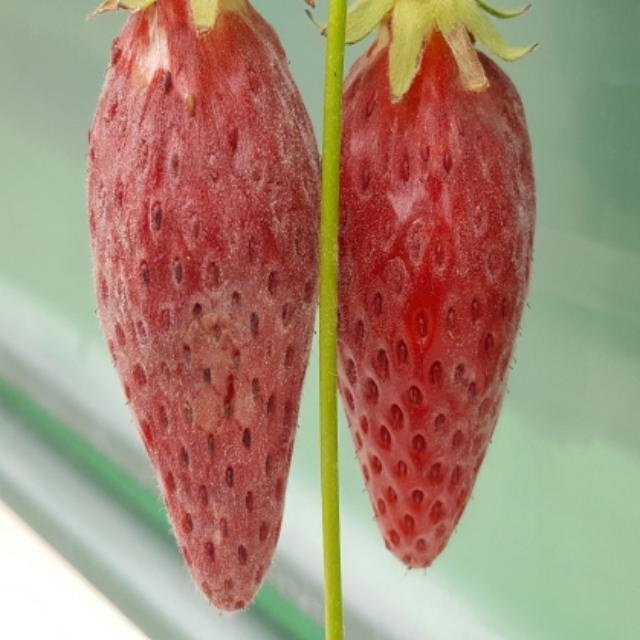Powdery Mildew Fruit: (84, 0, 322, 615), (333, 23, 536, 573)
